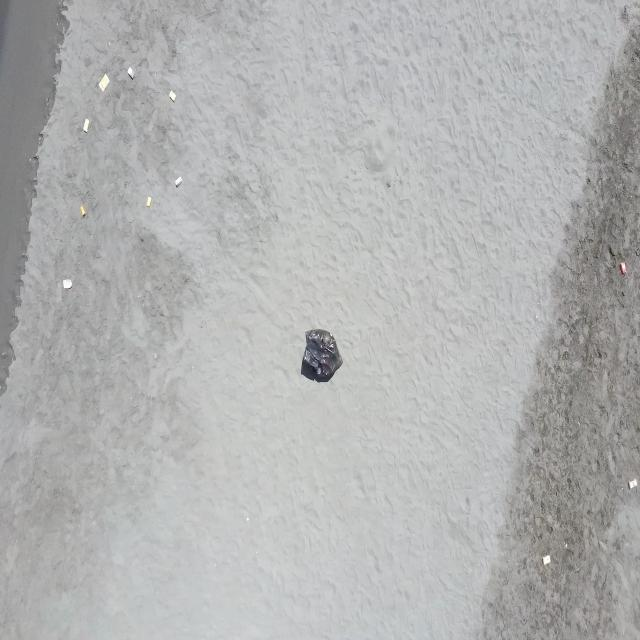Garbage: (300, 328, 342, 380), (98, 74, 108, 91), (619, 261, 626, 275), (168, 89, 175, 100), (145, 196, 151, 207), (63, 279, 71, 287), (543, 555, 550, 564), (80, 204, 85, 216), (83, 119, 88, 131), (175, 176, 181, 186), (128, 67, 134, 77), (628, 479, 635, 487), (564, 542, 567, 547)
